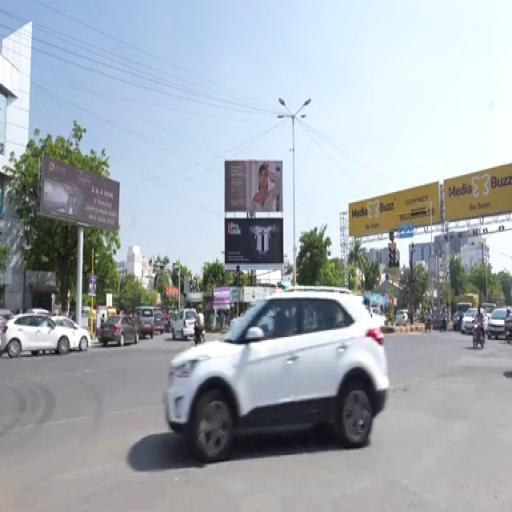Car: (164, 292, 389, 463), (0, 313, 79, 358), (52, 316, 91, 351), (100, 315, 139, 347), (172, 309, 197, 339), (453, 302, 473, 331), (488, 308, 506, 339), (137, 308, 155, 338), (460, 308, 477, 334), (371, 309, 385, 328), (154, 309, 164, 334), (395, 309, 408, 325), (27, 309, 51, 315)
